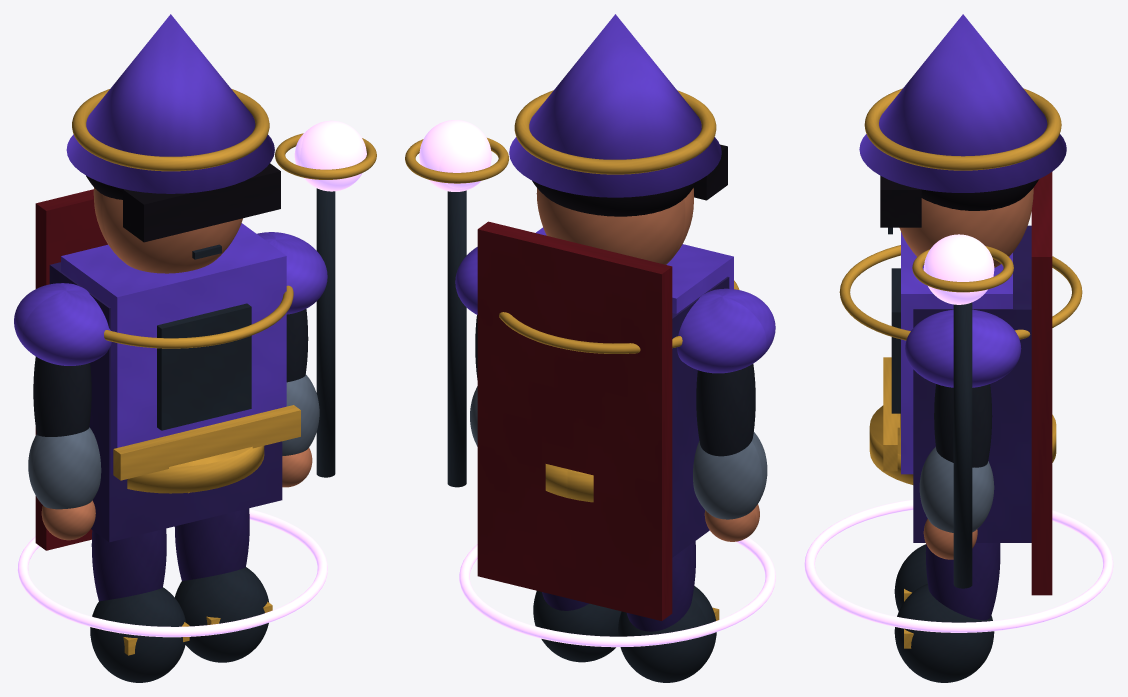
The model's file is Specialization.glb.
3 views of the same model, side by side, from view 1: azimuth 30°, elevation 25°; view 2: azimuth 150°, elevation 25°; view 3: azimuth 270°, elevation 25° (orthographic). The views are drawn at different scales.
Parts seen in each view (by area): view 1: ChestPlate, WizardHat, LayeredRobe, ChestInset, HairFringe, Shoulder, MageSash, Boot, Boot.001, Staff, MagicCircle, Head (+15 smaller); view 2: Cape, WizardHat, Shoulder, Head, Staff, LayeredRobe, MagicCircle, Arm, Gauntlet, Boot, HatBand, Boot.001 (+11 smaller); view 3: WizardHat, LayeredRobe, Cape, MagicCircle, Shoulder.001, Staff, Boot.001, Head, ChestPlate, HatBand, Leg.001, Gauntlet.001 (+11 smaller).
Boxes of the visible parts, <box> form: ChestPlate: <box>61,223,286,478</box>; WizardHat: <box>66,14,274,193</box>; LayeredRobe: <box>49,262,282,542</box>; ChestInset: <box>157,303,251,430</box>; HairFringe: <box>123,163,280,242</box>; Shoulder: <box>14,283,111,365</box>; MageSash: <box>113,405,300,480</box>; Boot: <box>90,587,185,682</box>; Boot.001: <box>175,567,268,662</box>; Staff: <box>316,188,335,477</box>; MagicCircle: <box>17,509,327,637</box>; Head: <box>93,187,242,273</box>; Cape: <box>477,221,672,620</box>; WizardHat: <box>509,14,721,197</box>; Shoulder: <box>677,288,775,373</box>; Head: <box>536,188,694,264</box>; Staff: <box>447,190,466,487</box>; LayeredRobe: <box>672,276,729,557</box>; MagicCircle: <box>459,530,775,647</box>; Arm: <box>696,364,755,456</box>; Gauntlet: <box>693,432,767,519</box>; Boot: <box>618,586,716,682</box>; HatBand: <box>514,90,716,174</box>; Boot.001: <box>533,591,621,662</box>; WizardHat: <box>859,14,1066,192</box>; LayeredRobe: <box>913,225,1031,542</box>; Cape: <box>1031,172,1052,595</box>; MagicCircle: <box>804,499,1113,632</box>; Shoulder.001: <box>905,309,1021,387</box>; Staff: <box>953,302,972,588</box>; Boot.001: <box>894,584,994,682</box>; Head: <box>899,188,1033,267</box>; ChestPlate: <box>901,232,1012,474</box>; HatBand: <box>864,88,1061,170</box>; Leg.001: <box>925,543,1000,620</box>; Gauntlet.001: <box>919,447,994,532</box>.
Bounding box in the file's own units: 1.93 × 3.43 × 1.49.
Materials: 12 (9 with a texture image).
